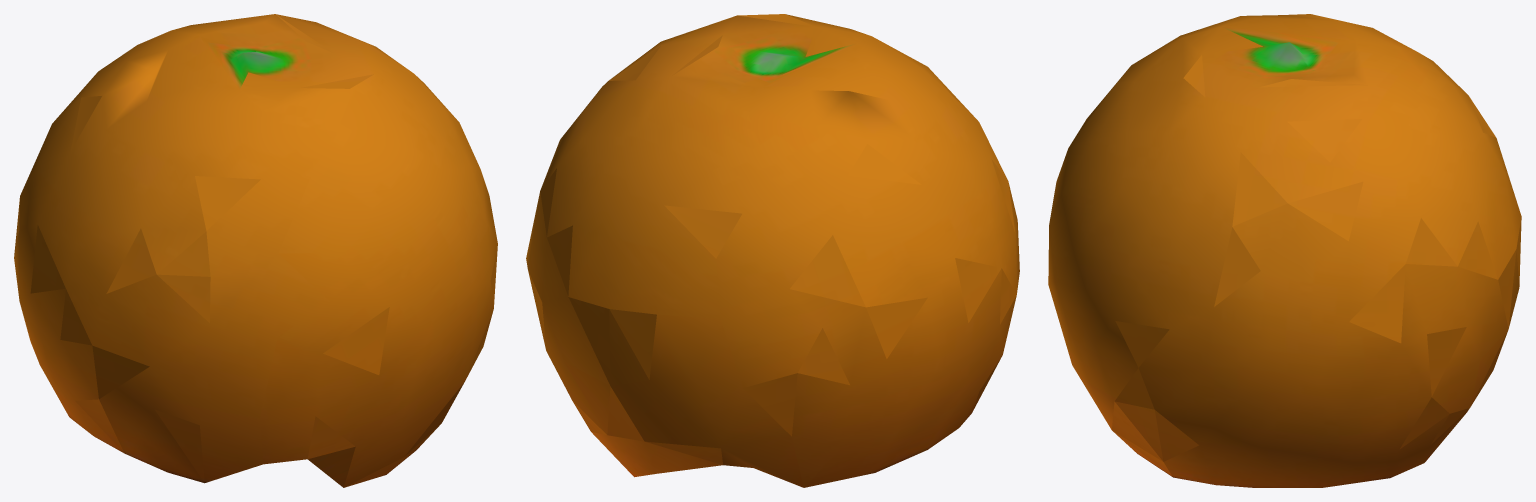
Rendered from naranjaCapi.obj.
The picture shows the model from 3 angles, left to right: view 1: azimuth 30°, elevation 25°; view 2: azimuth 150°, elevation 25°; view 3: azimuth 270°, elevation 25°; orthographic projection. The views are drawn at different scales.
Parts seen in each view (by area): view 1: naranjaCapi; view 2: naranjaCapi; view 3: naranjaCapi.
Boxes of the visible parts, bbox=[...] form: naranjaCapi: bbox=[14, 14, 497, 487]; naranjaCapi: bbox=[526, 14, 1019, 487]; naranjaCapi: bbox=[1048, 14, 1521, 487].
Size of the model in its own units: 0.1711 by 0.1503 by 0.1689.
1 material, 1 textured.
